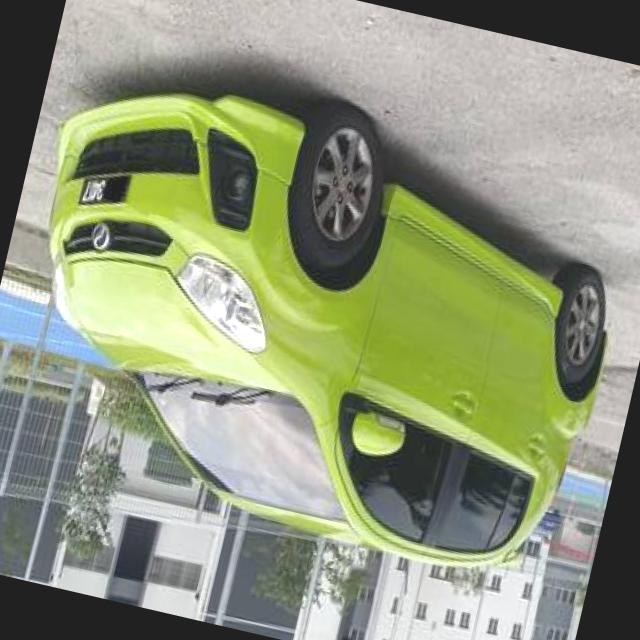PeroduaMyvi: (0, 41, 640, 596)
